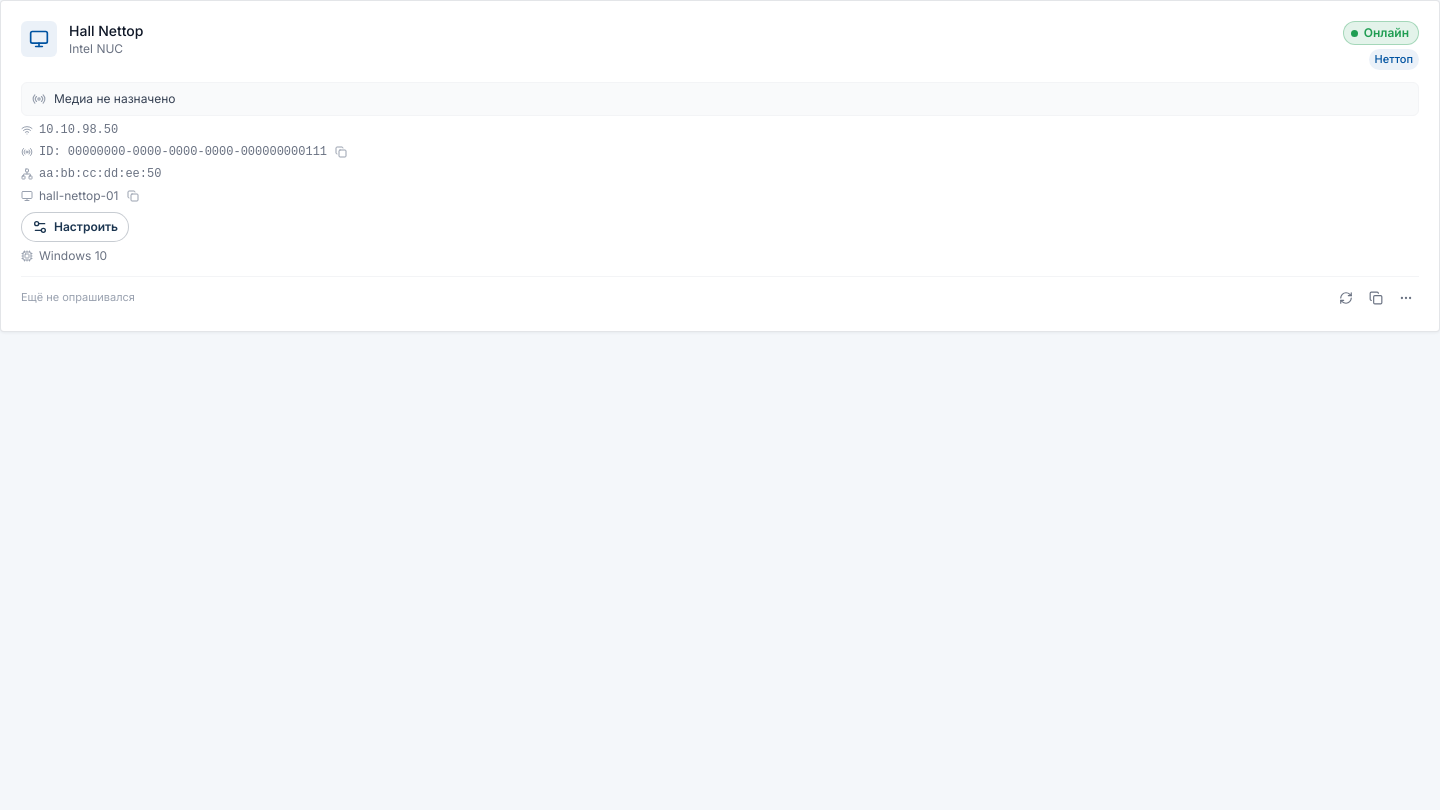
MediaPlayerCard › closes additional actions menu on outside click and Escape
The width and height of the screenshot is (1440, 810).
Click the button titled "Дополнительные действия" at x=1406, y=298, box [1393,284,1419,310]
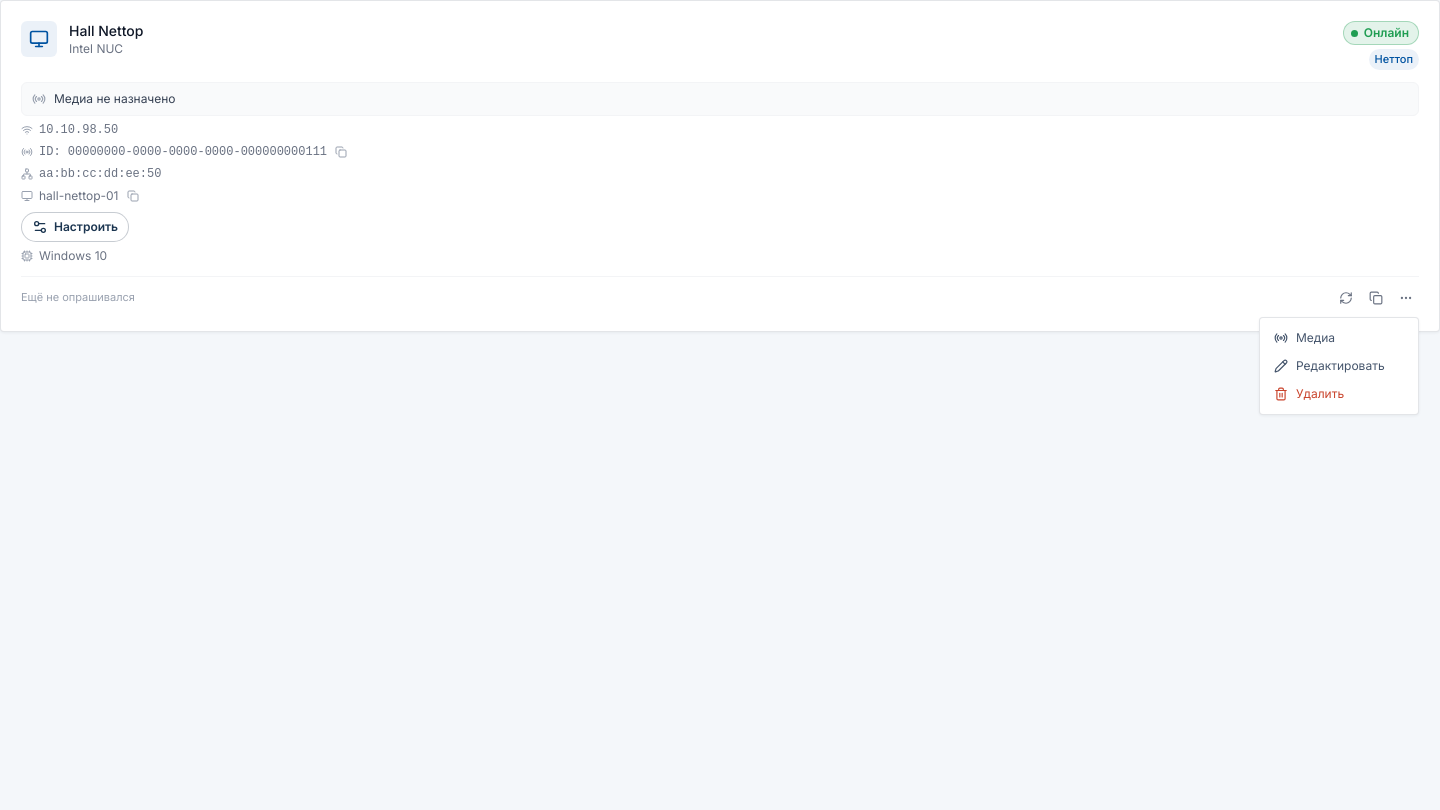
Result: the button "Редактировать" is shown at [1266,352,1412,380]
Press the mouse on the element that starts with "Hall Nettop" at x=720, y=405, box [0,0,1439,809]
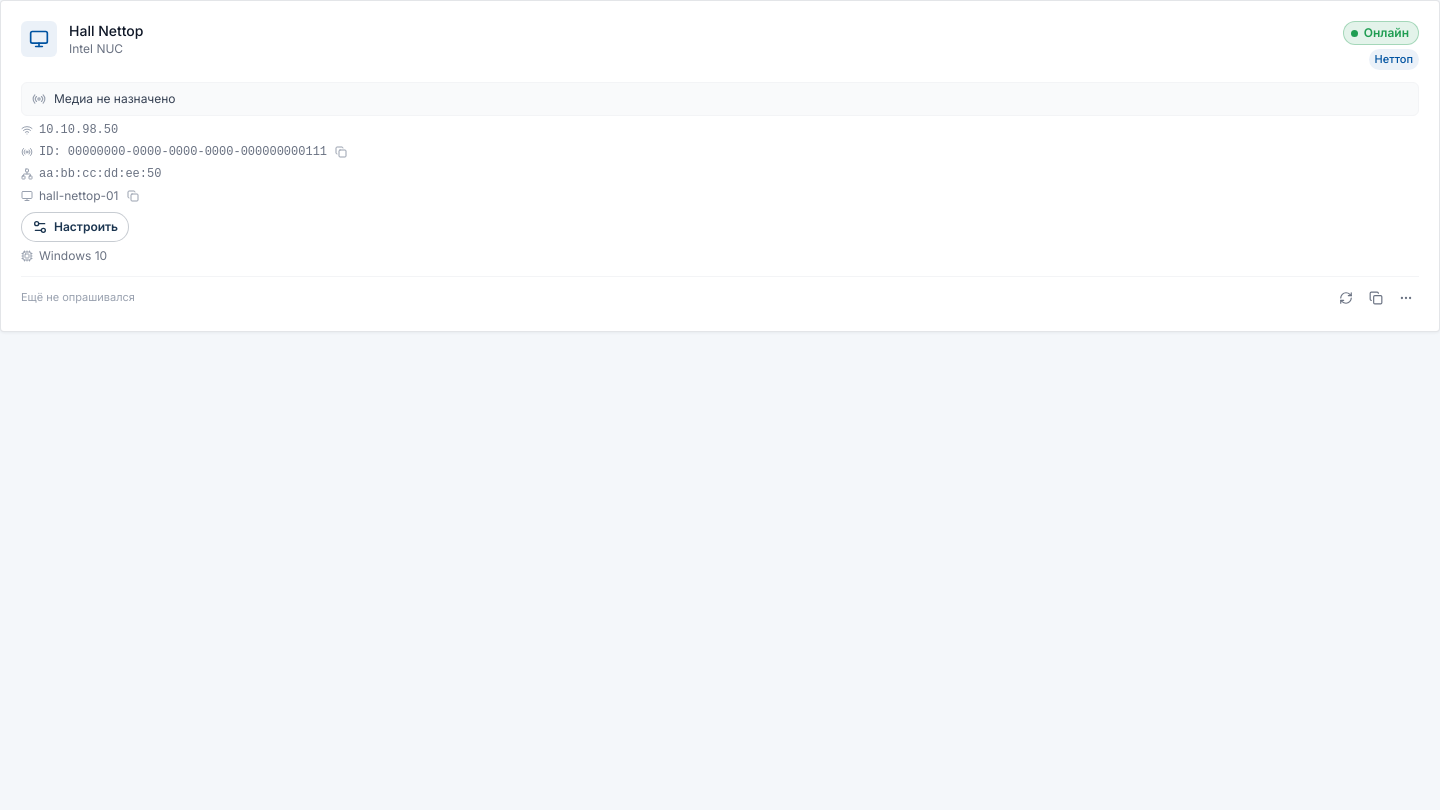
Result: the button "Редактировать" is gone
Click the button titled "Дополнительные действия" at x=1406, y=298, box [1393,284,1419,310]
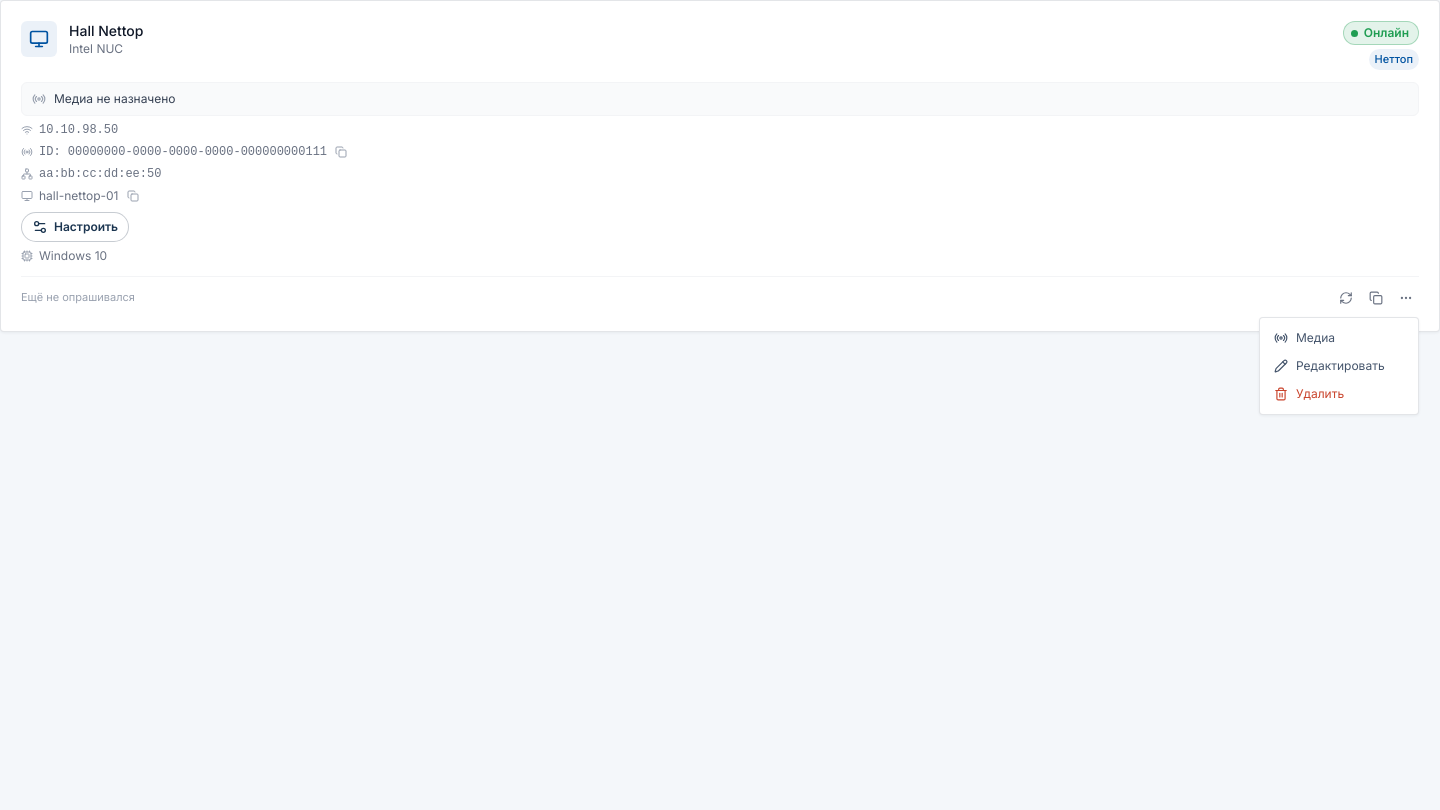
Result: the button "Редактировать" is shown at [1266,352,1412,380]
Press Escape
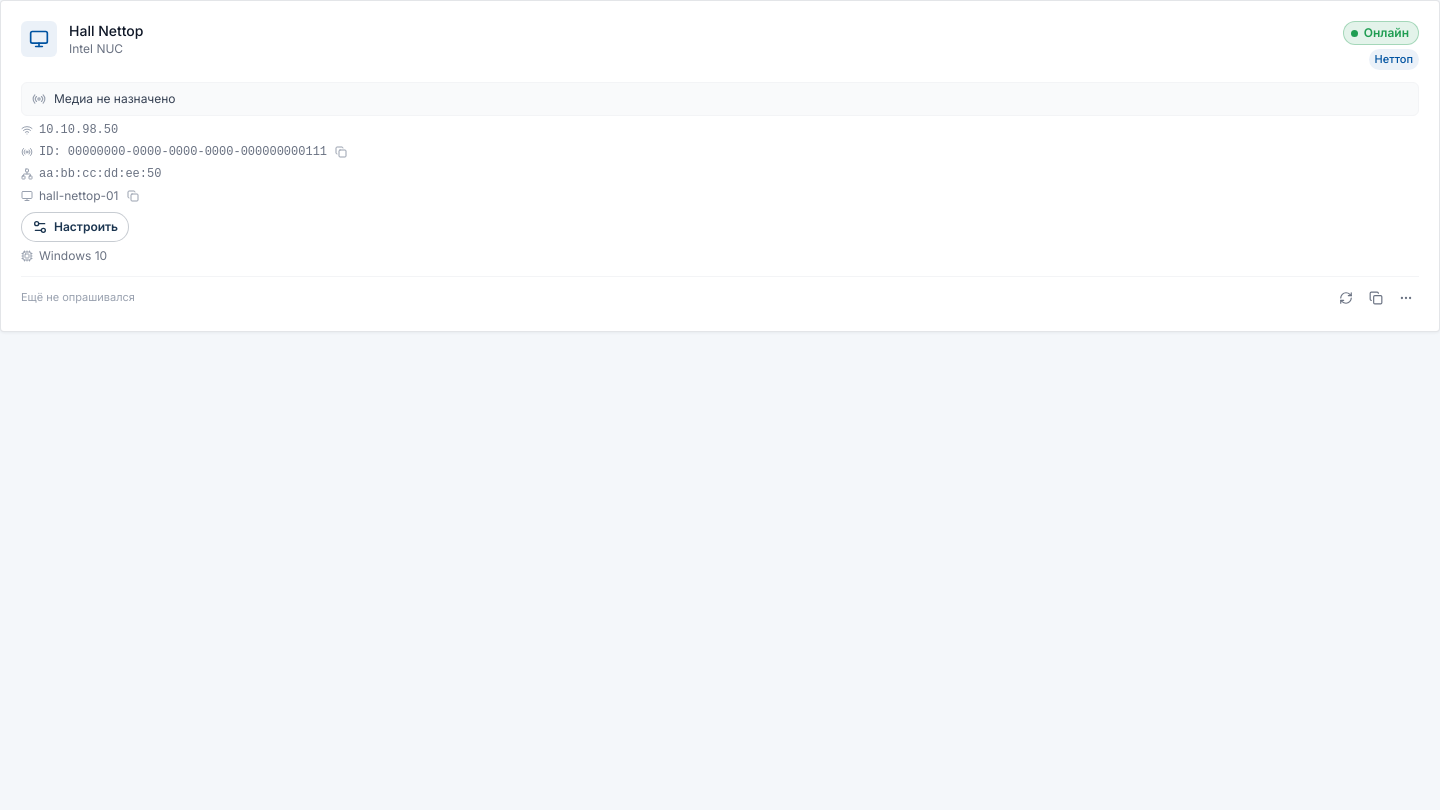
Result: the button "Редактировать" is gone
